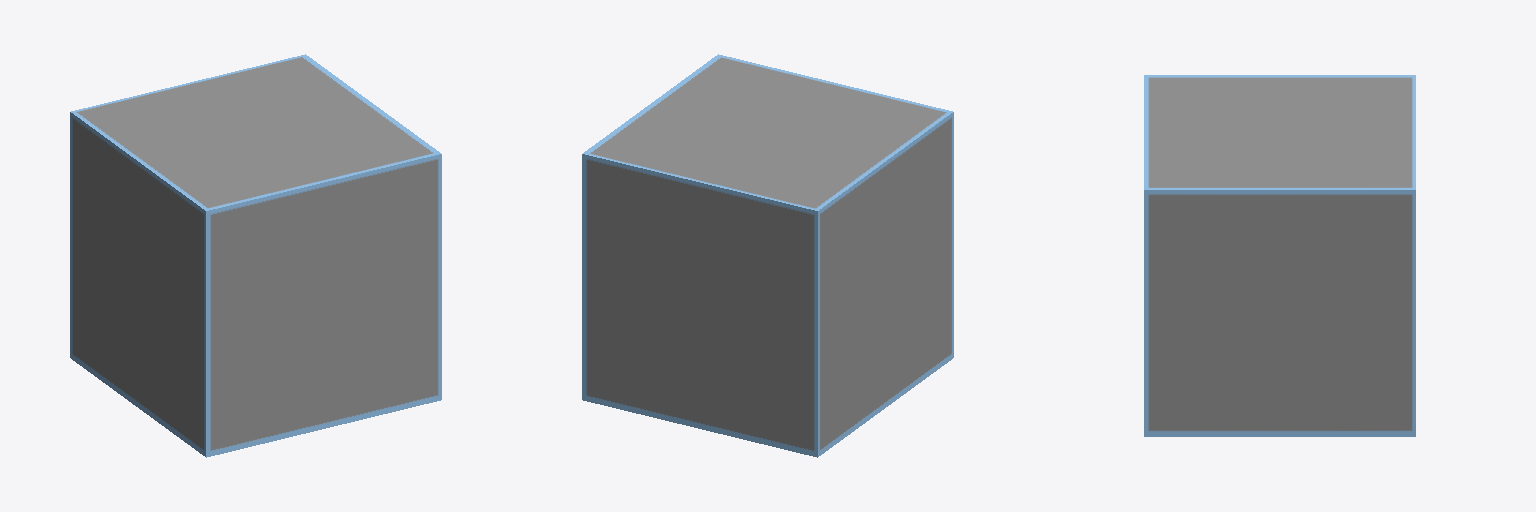
3 views of the same model, side by side, from view 1: azimuth 30°, elevation 25°; view 2: azimuth 150°, elevation 25°; view 3: azimuth 270°, elevation 25° (orthographic).
Visible parts, largest first — view 1: 立方体; view 2: 立方体; view 3: 立方体.
Part boxes in pixels (bbox=[...]): 立方体: bbox=[70, 54, 441, 457]; 立方体: bbox=[582, 54, 953, 457]; 立方体: bbox=[1144, 75, 1415, 436].
Bounding box in the file's own units: 2 × 2 × 2.
1 materials, 1 textured.